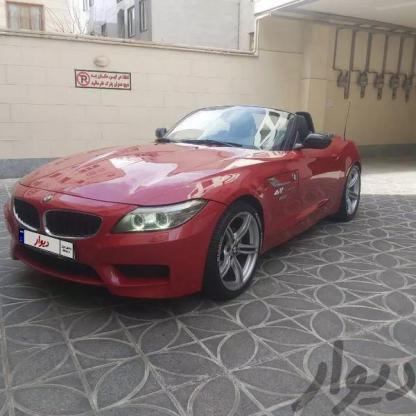Car: (0, 101, 372, 312)
